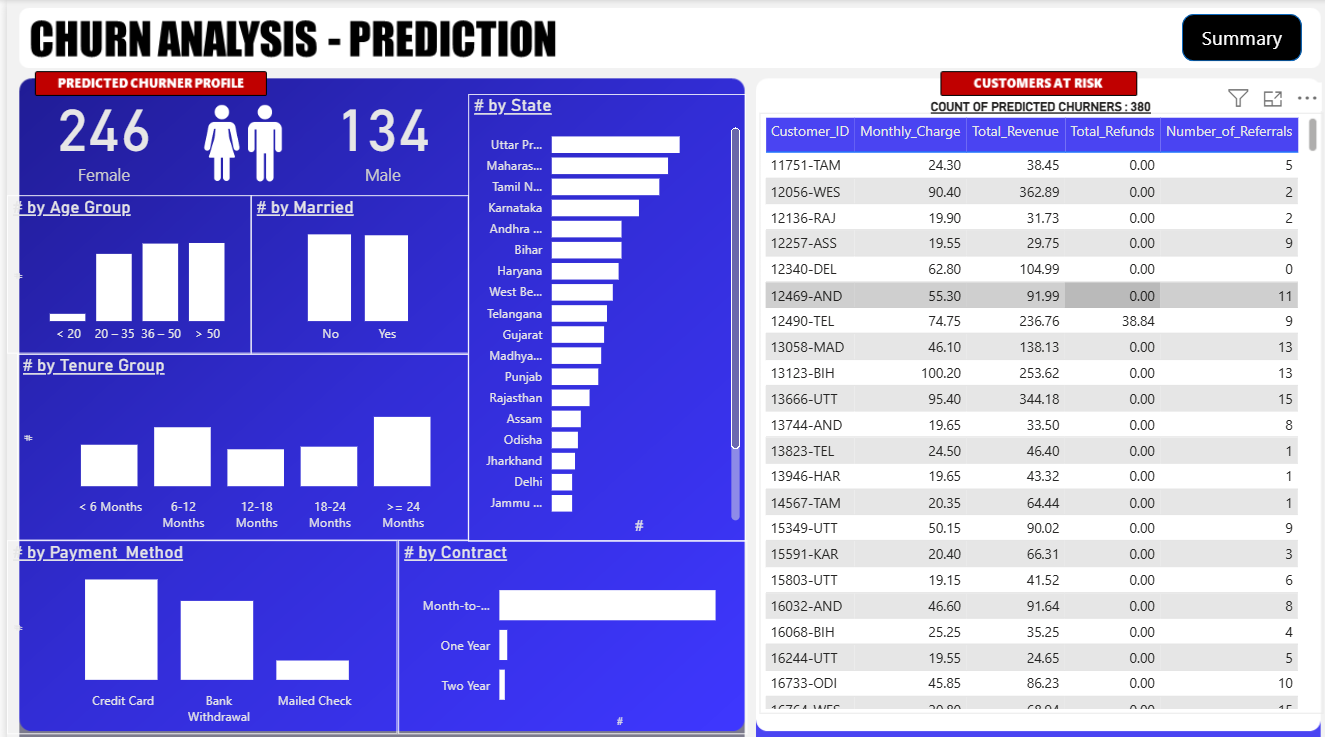

The page's visual inventory and layout, read from the dashboard file:
{"tool":"powerbi","page":{"name":"Churn Prediction","canvas":[1280,720],"ordinal":2},"visuals":[{"type":"tableEx","fields":{"Values":["Predictions.Customer_ID","Predictions.Monthly_Charge","Predictions.Total_Revenue","Predictions.Total_Refunds","Predictions.Number_of_Referrals"]},"box":[726.7,110,543.3,580],"z":0},{"type":"card","fields":{"Values":["tbl_Measures.Title Predicted Churners"]},"box":[875.7,91.4,244.3,28.6],"z":1000},{"type":"card","fields":{"Values":["tbl_Measures.Count Predicted Churner"]},"box":[291.7,70,141.7,120],"z":2000},{"type":"card","fields":{"Values":["tbl_Measures.Count Predicted Churner"]},"box":[23.3,70,141.7,120],"z":3000},{"type":"clusteredColumnChart","fields":{"Category":["Predictions.Married"],"Y":["CountNonNull(Predictions.Customer_ID)"]},"box":[235.7,190,210,152.9],"z":4000},{"type":"clusteredColumnChart","fields":{"Category":["mapping_AgeGrp.Age Group"],"Y":["CountNonNull(Predictions.Customer_ID)"]},"box":[0,190,235.7,152.9],"z":5000},{"type":"clusteredBarChart","fields":{"Category":["Predictions.Contract"],"Y":["CountNonNull(Predictions.Customer_ID)"]},"box":[377.1,522.9,337.1,187.1],"z":6000},{"type":"clusteredColumnChart","fields":{"Category":["mapping_TenureGrp.Tenure Group"],"Y":["CountNonNull(Predictions.Customer_ID)"]},"box":[10,342.9,435.7,180],"z":7000},{"type":"clusteredColumnChart","fields":{"Y":["CountNonNull(Predictions.Customer_ID)"],"Category":["Predictions.Payment_Method"]},"box":[0,522.9,377.1,187.1],"z":8000},{"type":"clusteredBarChart","fields":{"Category":["Predictions.State"],"Y":["CountNonNull(Predictions.Customer_ID)"]},"box":[445,91.7,268.3,431.7],"z":9000},{"type":"image","box":[176.7,86.7,103.3,103.3],"z":10000},{"type":"shape","box":[1134.3,14.3,115.7,45.7],"z":11000}]}

Visuals, with their boxes in screenshot pixels (x1, y1, x2, y2), scaled from the page's 1280x720 canvas onto the 1325x737 screenshot:
tableEx - Predictions.Customer_ID x Predictions.Monthly_Charge: <box>752,113,1315,706</box>
card - tbl_Measures.Title Predicted Churners: <box>906,94,1159,123</box>
card - tbl_Measures.Count Predicted Churner: <box>302,72,449,194</box>
card - tbl_Measures.Count Predicted Churner: <box>24,72,171,194</box>
clusteredColumnChart - Predictions.Married x CountNonNull(Predictions.Customer_ID): <box>244,194,461,351</box>
clusteredColumnChart - mapping_AgeGrp.Age Group x CountNonNull(Predictions.Customer_ID): <box>0,194,244,351</box>
clusteredBarChart - Predictions.Contract x CountNonNull(Predictions.Customer_ID): <box>390,535,739,727</box>
clusteredColumnChart - mapping_TenureGrp.Tenure Group x CountNonNull(Predictions.Customer_ID): <box>10,351,461,535</box>
clusteredColumnChart - CountNonNull(Predictions.Customer_ID) x Predictions.Payment_Method: <box>0,535,390,727</box>
clusteredBarChart - Predictions.State x CountNonNull(Predictions.Customer_ID): <box>461,94,738,536</box>
image: <box>183,89,290,194</box>
shape: <box>1174,15,1294,61</box>
